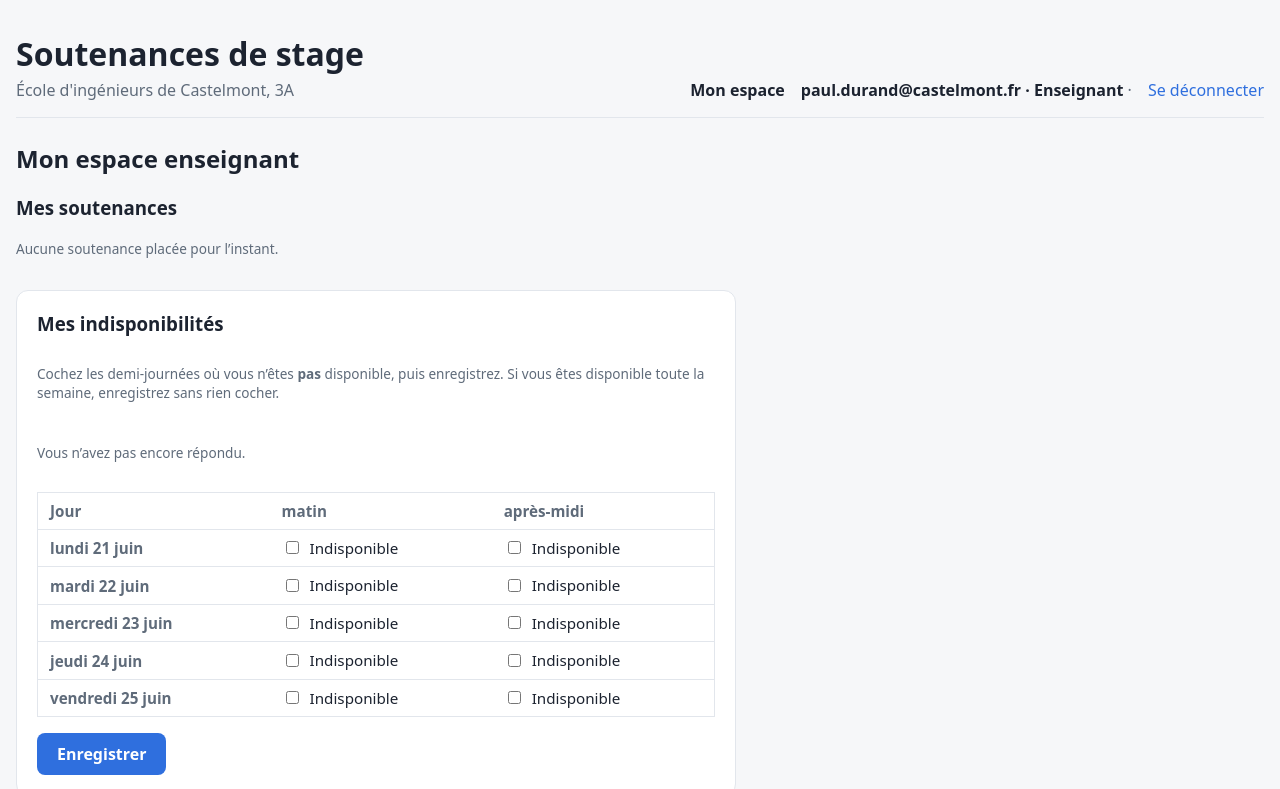
Scenario: AvailabilityForm (the teacher) › PUTs the ticked half-days, the whole list at once
Click the checkbox named "Indisponible lundi 21 juin matin".
click(292, 548)  # box [286, 541, 299, 554]
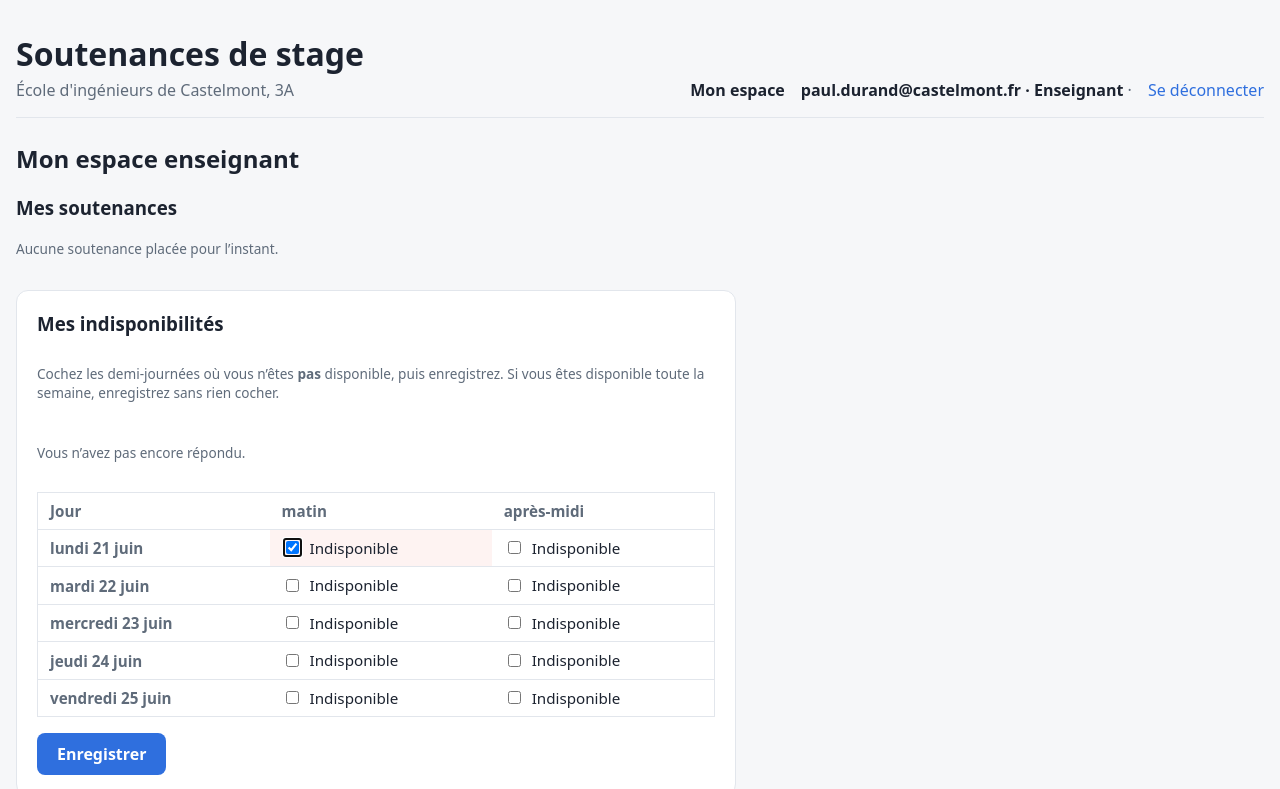
Click the checkbox named "Indisponible jeudi 24 juin après-midi".
click(514, 660)  # box [508, 654, 521, 667]
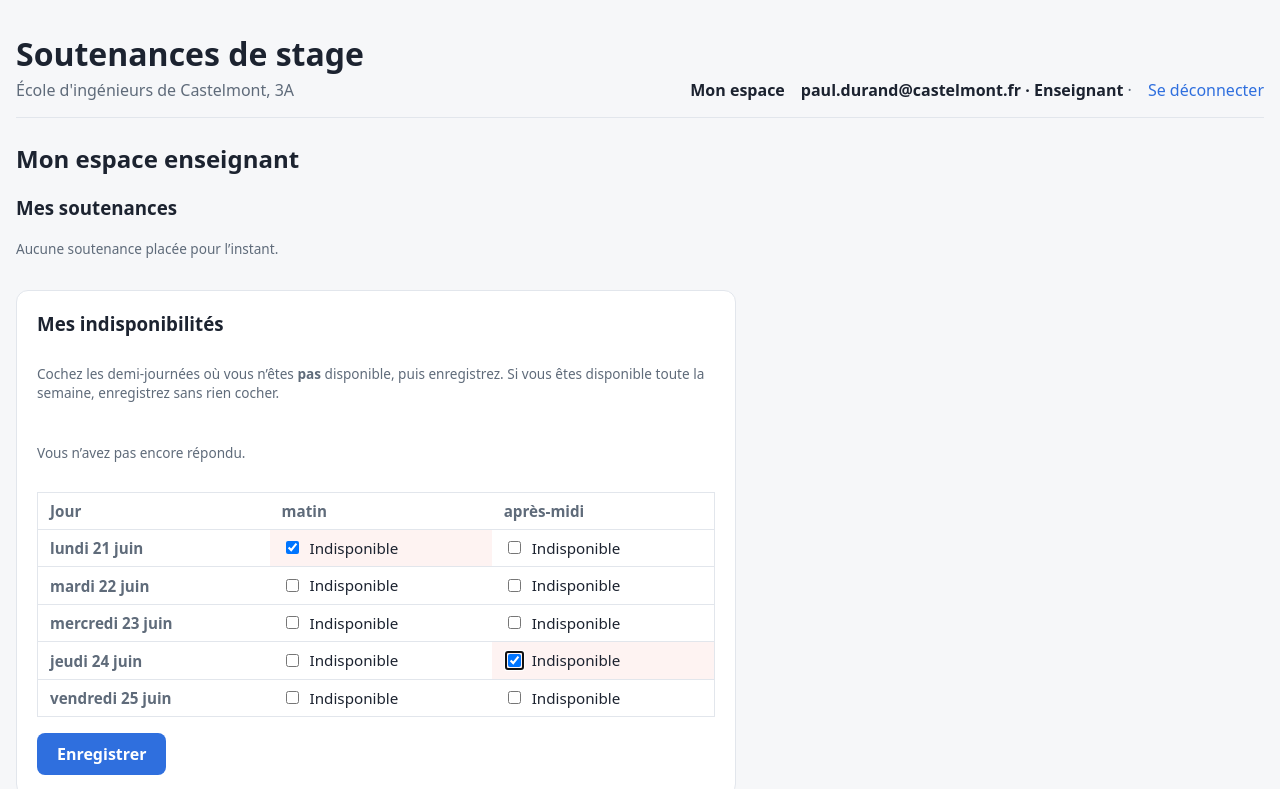
Click the button "Enregistrer".
click(102, 754)  # box [37, 733, 166, 775]
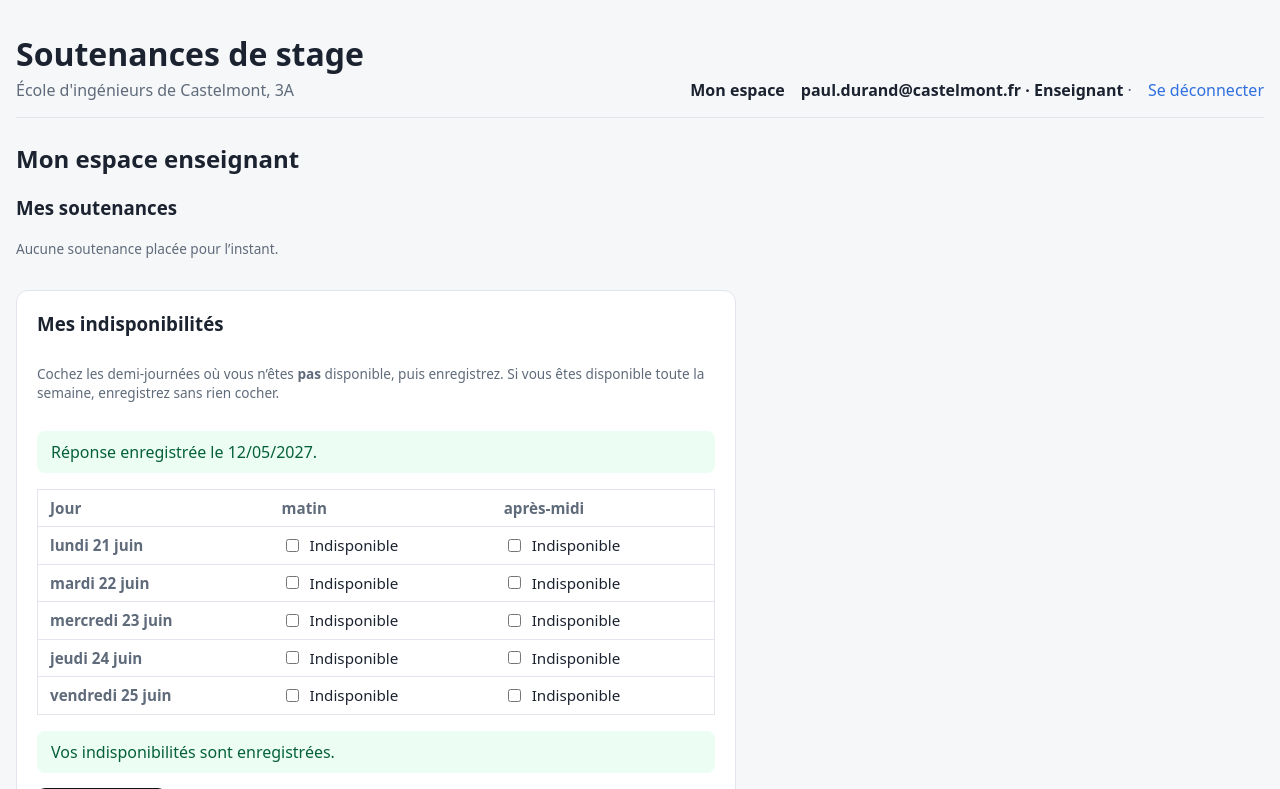
Result: the text "Vos indisponibilités sont enregistrées." is shown at [37, 731, 715, 773]
